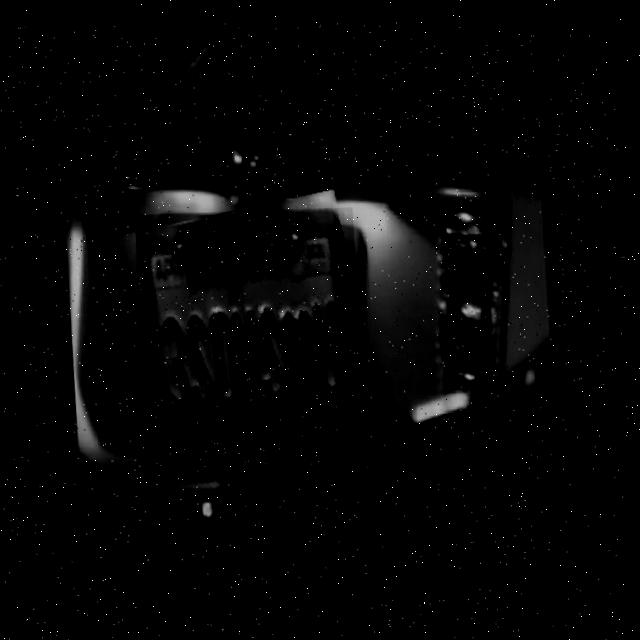LicensePlate: (138, 204, 370, 474)
